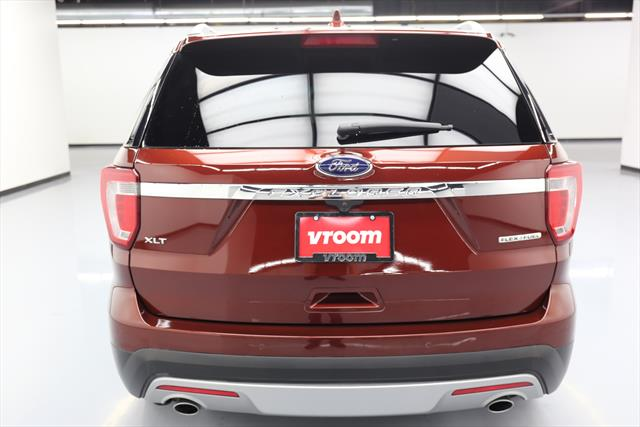Ford Explorer: (100, 23, 583, 415)
